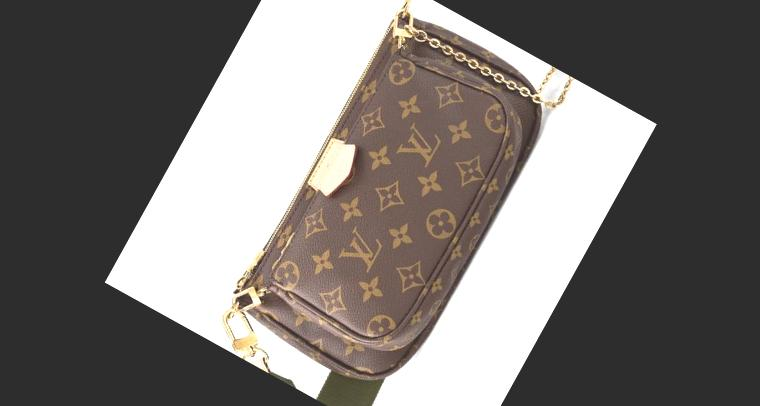LOUIS-VUITTON: (234, 4, 554, 392)
